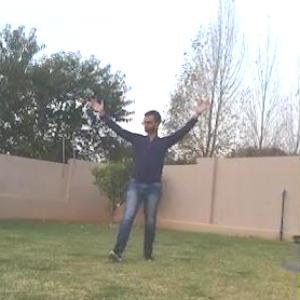takeoff: (76, 95, 210, 262)
